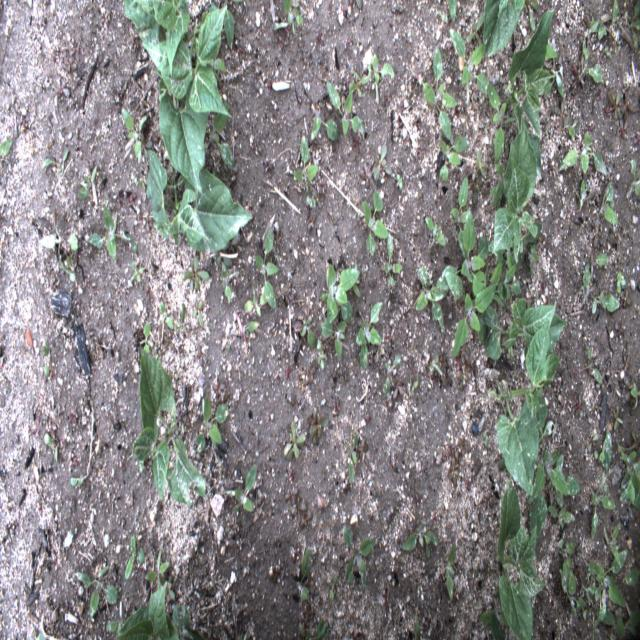crop: (122, 2, 235, 195), (492, 306, 564, 493), (145, 154, 266, 262), (132, 344, 208, 513), (492, 4, 566, 164), (480, 482, 547, 636), (109, 552, 205, 638), (490, 131, 536, 256), (479, 0, 540, 60)
weed: (422, 218, 523, 356), (552, 508, 638, 636), (324, 58, 395, 144), (316, 254, 361, 368), (244, 222, 283, 341), (558, 122, 608, 212), (86, 190, 140, 269), (423, 42, 457, 157), (336, 514, 380, 599), (446, 17, 490, 97), (576, 256, 636, 314), (588, 1, 638, 54), (588, 408, 628, 473), (79, 558, 120, 621), (193, 386, 233, 450), (355, 190, 389, 264), (589, 182, 623, 254), (354, 297, 386, 373), (291, 134, 321, 213), (604, 78, 633, 151), (434, 136, 470, 194), (572, 36, 610, 88), (400, 522, 446, 564), (230, 457, 262, 515), (616, 438, 638, 514), (587, 481, 614, 542), (122, 107, 150, 164), (122, 521, 148, 582), (282, 484, 314, 532), (307, 403, 333, 462), (178, 250, 214, 292), (379, 350, 405, 408), (449, 178, 474, 237), (442, 538, 460, 616), (294, 539, 314, 607), (271, 1, 305, 40), (362, 145, 394, 186), (408, 361, 438, 402), (345, 430, 369, 481), (312, 105, 341, 146), (282, 416, 306, 463), (443, 436, 464, 488), (385, 233, 403, 293), (424, 204, 446, 250), (73, 163, 97, 204), (219, 255, 235, 310), (42, 146, 71, 175), (37, 426, 59, 464), (68, 463, 92, 492), (42, 324, 54, 381), (573, 385, 590, 423), (627, 146, 638, 200), (161, 298, 178, 332), (621, 377, 636, 415), (194, 299, 210, 333), (408, 475, 422, 509), (0, 137, 18, 163), (127, 262, 146, 284), (612, 318, 628, 340), (396, 158, 405, 193)
